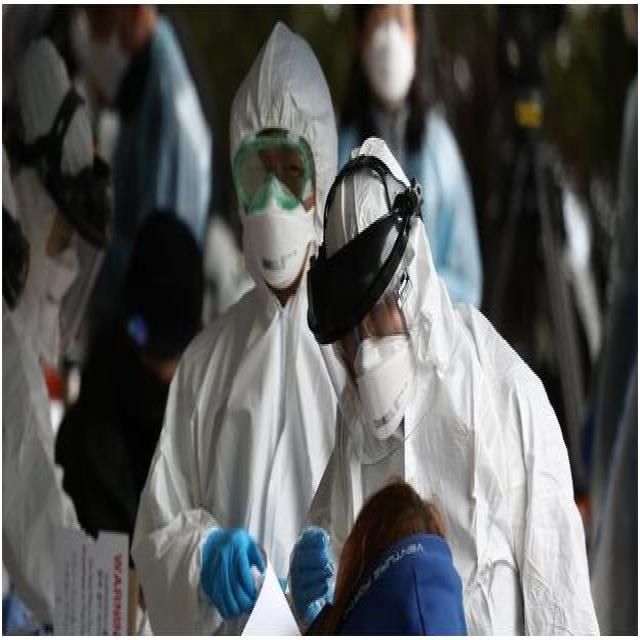Coverall: (118, 14, 389, 640), (290, 150, 589, 640)
Gloves: (172, 498, 281, 628)
Goggles: (224, 134, 321, 212), (314, 302, 410, 364)
